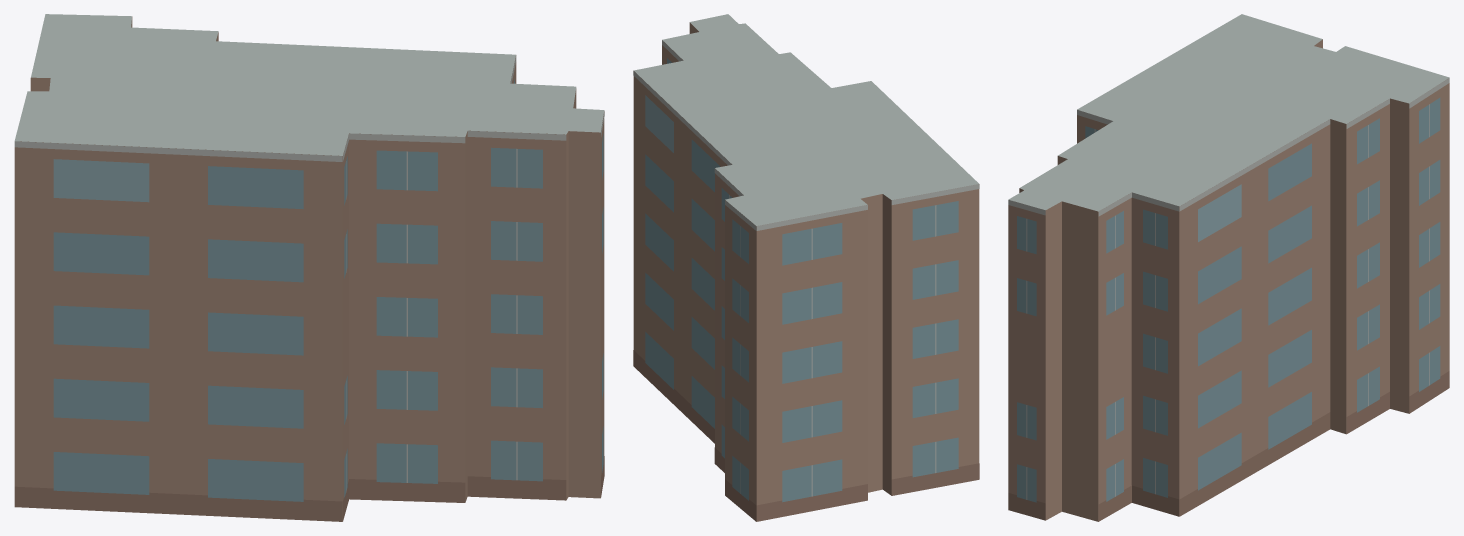
File: survey-upis-32680114.glb
3 renders of one model, left to right at view 1: azimuth 30°, elevation 25°; view 2: azimuth 150°, elevation 25°; view 3: azimuth 270°, elevation 25°, orthographic. The views are drawn at different scales.
Parts seen in each view (by area): view 1: survey-upis-32680114.tmp; view 2: survey-upis-32680114.tmp; view 3: survey-upis-32680114.tmp.
Part boxes in pixels (x1=…): survey-upis-32680114.tmp: x1=14, y1=14, x2=604, y2=521; survey-upis-32680114.tmp: x1=633, y1=14, x2=979, y2=521; survey-upis-32680114.tmp: x1=1008, y1=14, x2=1449, y2=521.
Size of the model in its own units: 19.66 by 14.4 by 18.57.
